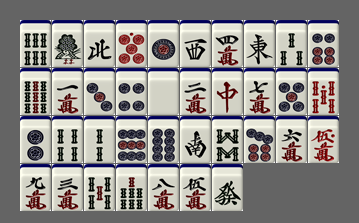0m: (308, 116, 339, 163)
0p: (116, 20, 147, 67)
0s: (308, 68, 339, 115)
1m: (52, 68, 83, 115)
1p: (148, 20, 179, 67)
1s: (52, 20, 83, 67)
1z: (244, 20, 275, 67)
2m: (180, 68, 211, 115)
2p: (20, 116, 51, 163)
2s: (84, 116, 115, 163)
2z: (180, 116, 211, 163)
3m: (52, 164, 83, 211)
3p: (84, 68, 115, 115)
3s: (276, 20, 307, 67)
3z: (180, 20, 211, 67)
4m: (212, 20, 243, 67)
4p: (116, 68, 147, 115)
4s: (52, 116, 83, 163)
4z: (84, 20, 115, 67)
5m: (180, 164, 211, 211)
5p: (276, 68, 307, 115)
5s: (84, 164, 115, 211)
5z: (148, 68, 179, 115)
6m: (276, 116, 307, 163)
6p: (308, 20, 339, 67)
6s: (20, 20, 51, 67)
6z: (212, 164, 243, 211)
7m: (244, 68, 275, 115)
7p: (244, 116, 275, 163)
7s: (116, 164, 147, 211)
7z: (212, 68, 243, 115)
8m: (148, 164, 179, 211)
8p: (148, 116, 179, 163)
8s: (212, 116, 243, 163)
9m: (20, 164, 51, 211)
9p: (116, 116, 147, 163)
9s: (20, 68, 51, 115)
